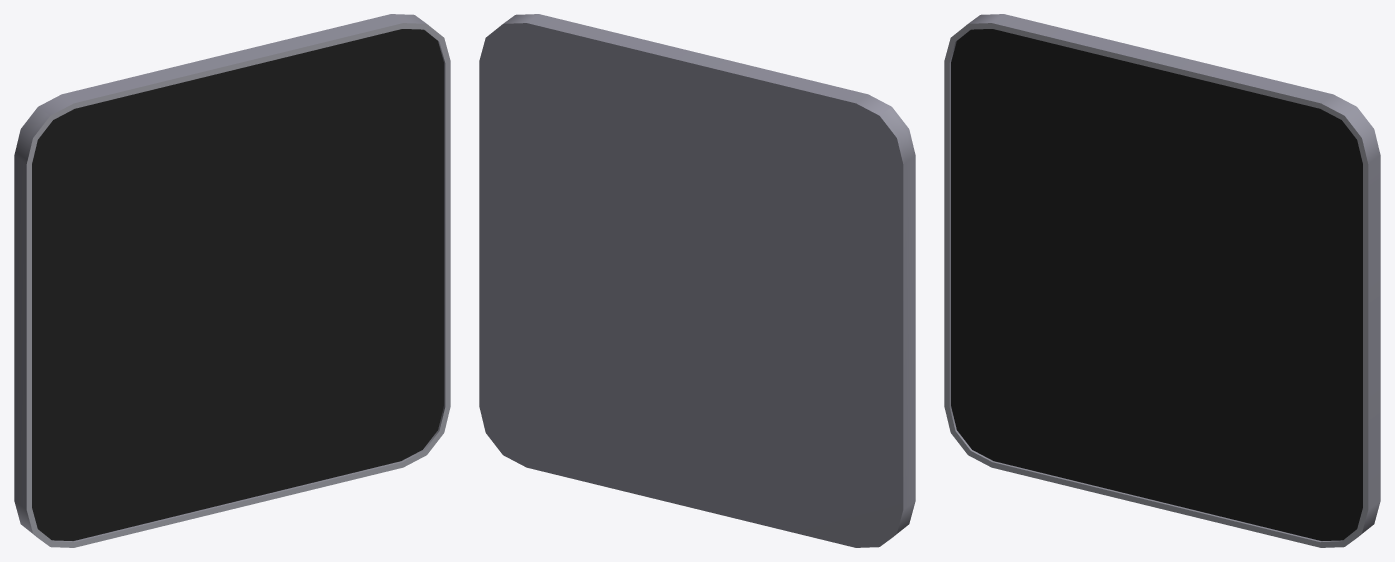
3 views of the same model, side by side, from view 1: azimuth 30°, elevation 25°; view 2: azimuth 150°, elevation 25°; view 3: azimuth 330°, elevation 25° (orthographic).
Parts seen in each view (by area): view 1: panelSquare; view 2: panelSquare; view 3: panelSquare.
Boxes of the visible parts, <box> form: panelSquare: <box>14,14,450,547</box>; panelSquare: <box>479,14,915,547</box>; panelSquare: <box>944,14,1380,547</box>.
Size of what is drawn, in the model's own units: 1.29 by 1.29 by 0.0648.
Materials: 1 (1 with a texture image).
